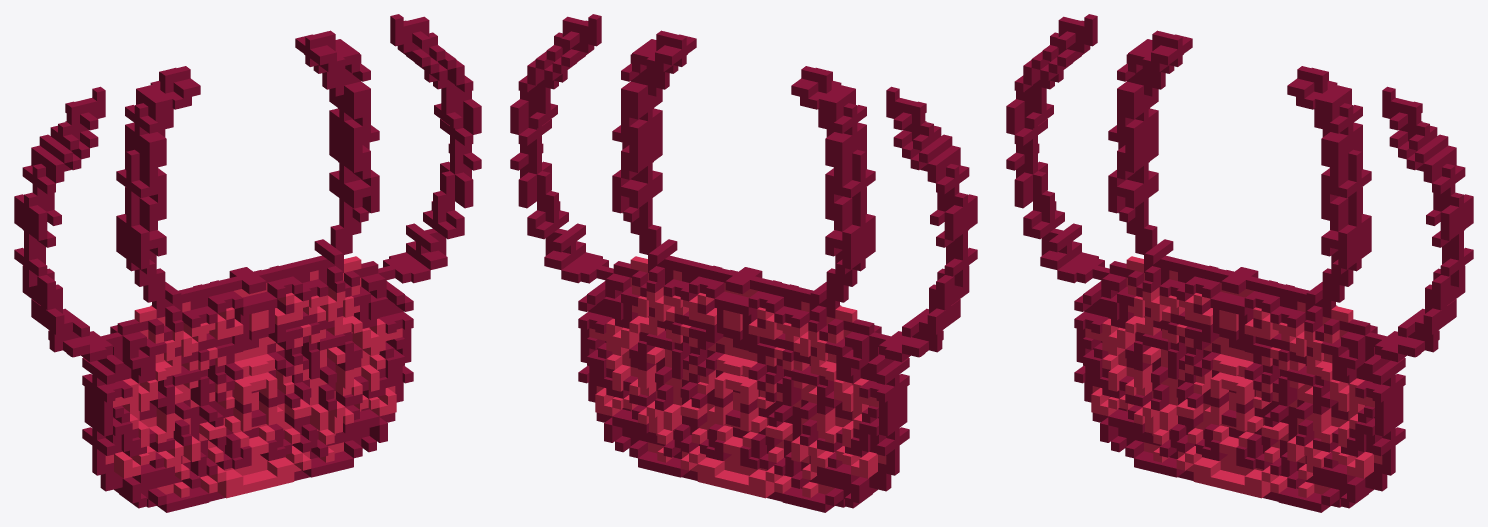
File: EnemyHuge.fbx
3 views of the same model, side by side, from view 1: azimuth 30°, elevation 25°; view 2: azimuth 150°, elevation 25°; view 3: azimuth 330°, elevation 25° (orthographic).
Parts seen in each view (by area): view 1: generated; view 2: generated; view 3: generated.
Part boxes in pixels (x1,y1,x2,y2): generated: (14, 14, 481, 512); generated: (510, 14, 977, 512); generated: (1006, 14, 1473, 512).
Bounding box in the file's own units: 520 × 490 × 50.
